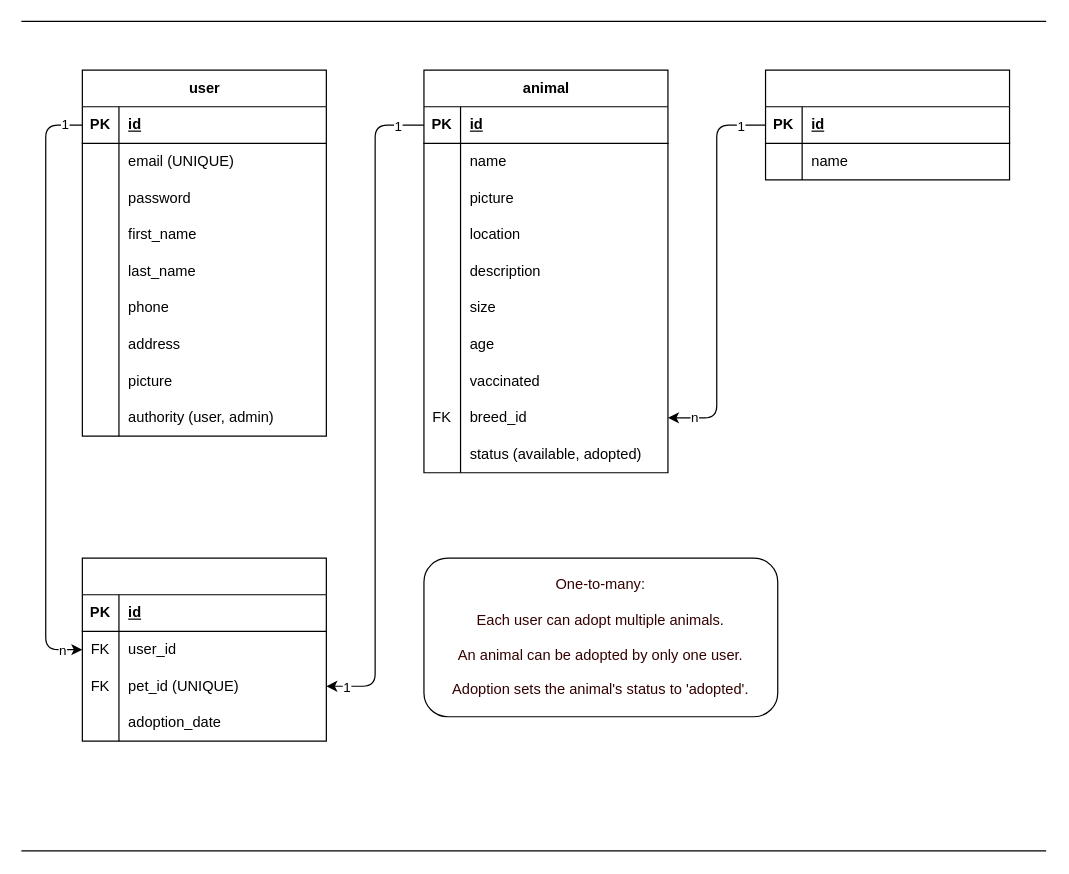
Some shapes in this 1069 by 874 pixel diagram are drawn without their labels. The box of each missing label's shape, as (x1, y1, x2, y2) in pixels:
breed: (764, 69, 1010, 180)
pet_adoption: (81, 557, 326, 741)
